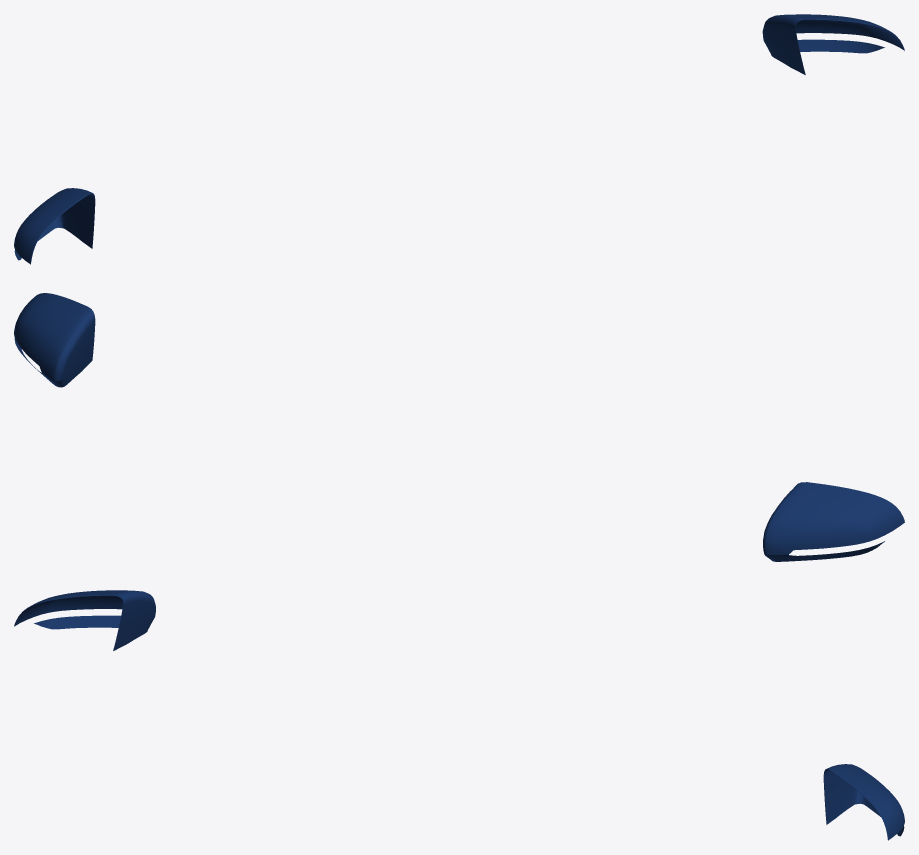
Rendered from Mr_paint.glb.
The picture shows the model from 3 angles, top to bottom: view 1: azimuth 30°, elevation 25°; view 2: azimuth 150°, elevation 25°; view 3: azimuth 330°, elevation 25°; orthographic projection.
Parts seen in each view (by area): view 1: Mr_paint; view 2: Mr_paint; view 3: Mr_paint.
Part boxes in pixels (left/top/right/bottom): Mr_paint: left=14, top=14, right=904, bottom=264; Mr_paint: left=14, top=293, right=904, bottom=561; Mr_paint: left=14, top=590, right=904, bottom=840.
Size of the model in its own units: 1.87 by 0.1172 by 0.2157.
